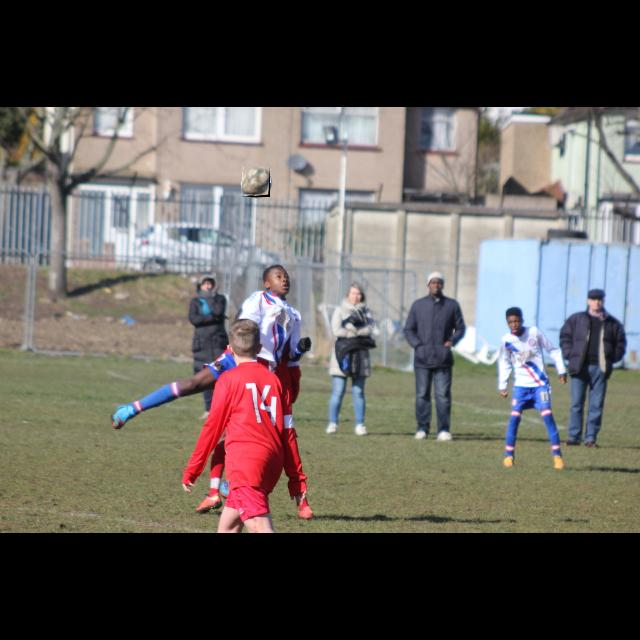Football: (242, 167, 270, 197)
